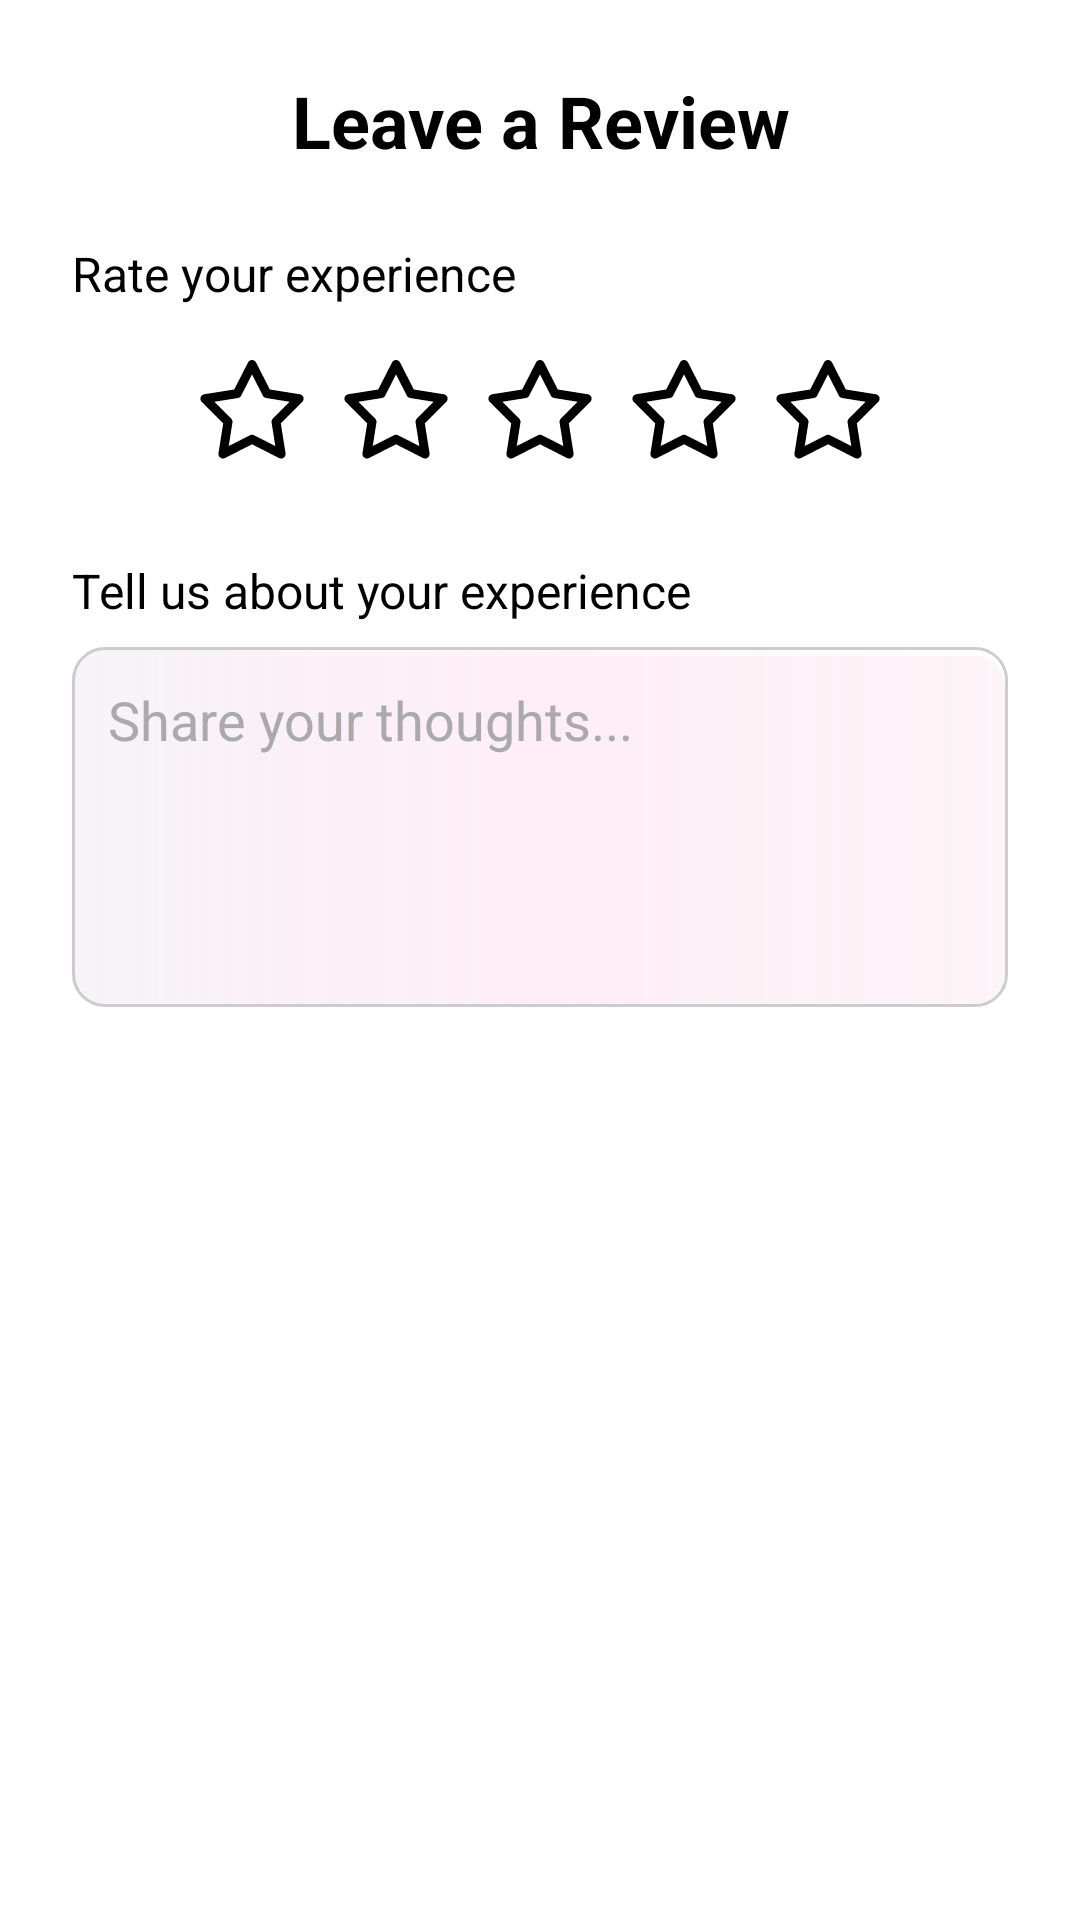

Icons on this 1080*1920 Android screen, each with the point to tap as (x=x, y=y):
Star 1: (x=252, y=409)
Star 2: (x=396, y=409)
Star 3: (x=540, y=409)
Star 4: (x=684, y=409)
Star 5: (x=828, y=409)
